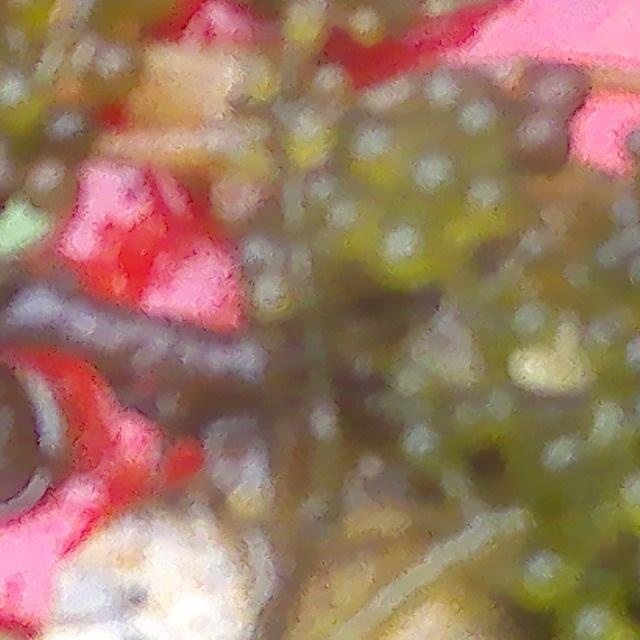SeaGrape: (514, 115, 571, 178), (520, 68, 585, 117), (517, 555, 571, 606), (42, 115, 95, 162), (22, 166, 73, 212)
